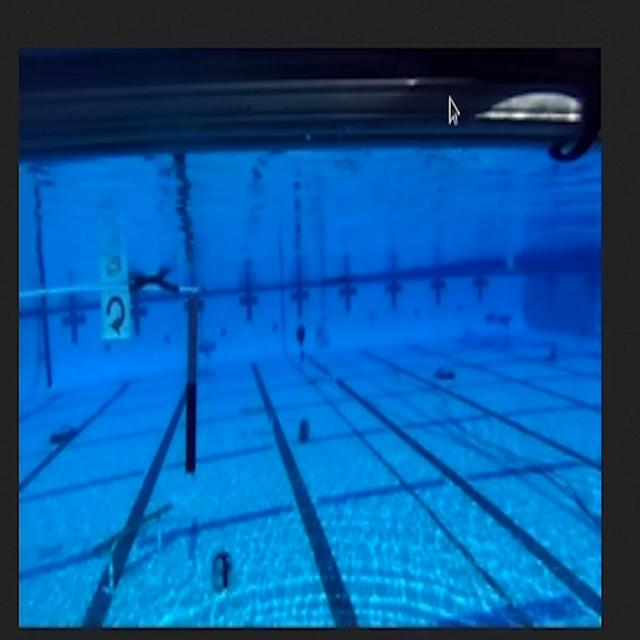Gate: (19, 260, 207, 486)
Path: (82, 498, 178, 596)
